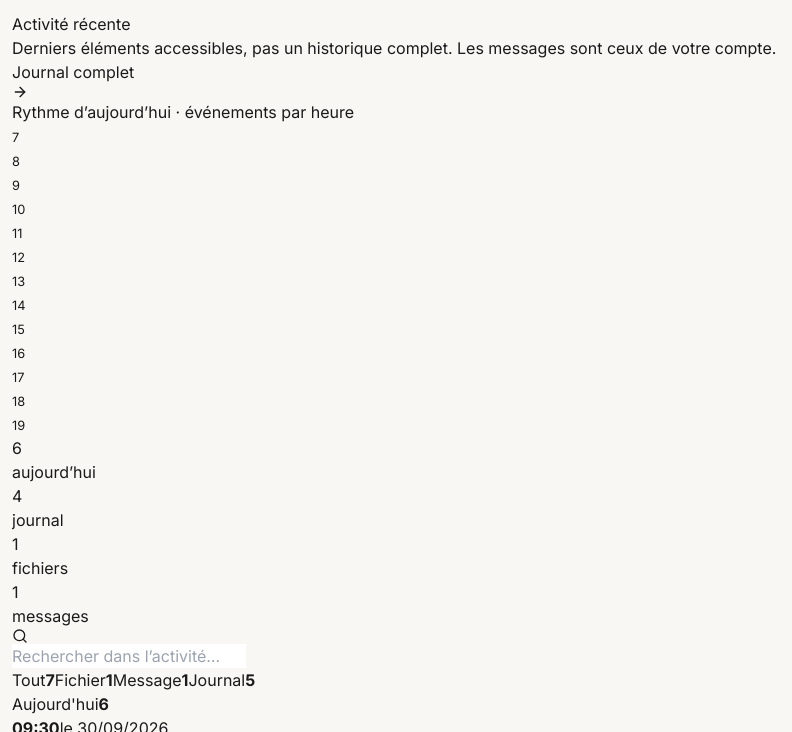
Scenario: onglet Activité du cabinet › les filtres affichent leur compteur et ne gardent que la source choisie ; la recherche porte sur l'acteur et le libellé
Expected: the button with aria-label "Journal 5" is shown, [188,668,255,692]
Step 1. Click the button with aria-label "Fichier 1" → (84, 680), box [55,668,113,692]
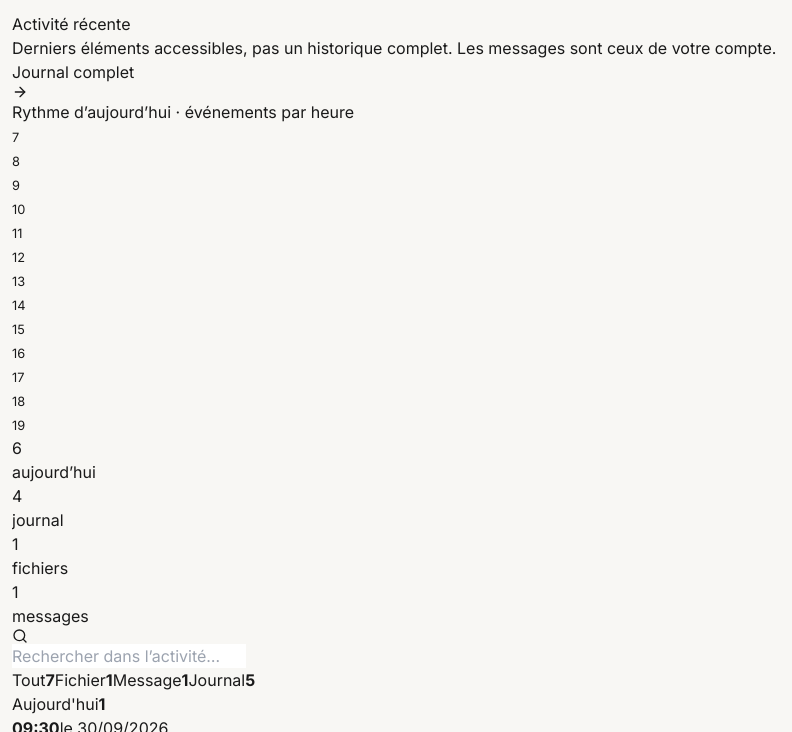
Step 2. Click the button with aria-label "Tout 7" → (33, 680), box [12,668,55,692]
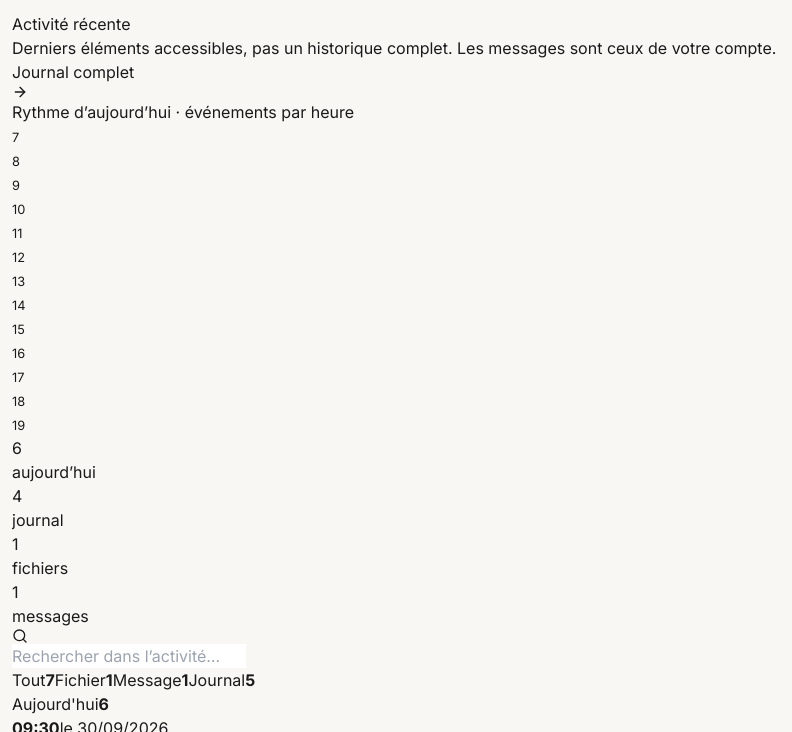
Step 3. Type "karim" into the search field labelled "Rechercher dans l’activité" → (129, 656), box [12,644,246,668]
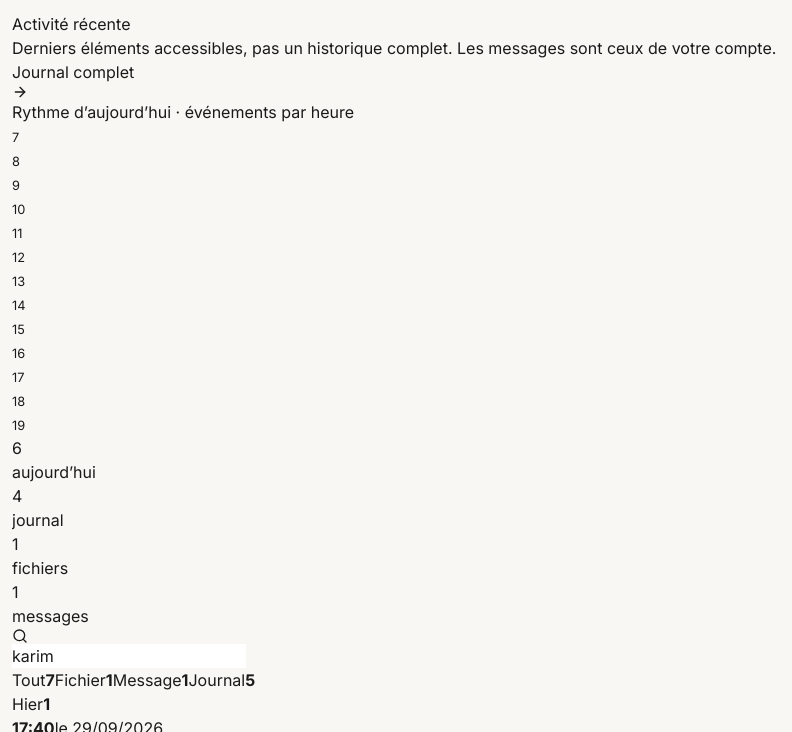
Step 4. Replace the text in the search field with "zzzz" → (129, 656), box [12,644,246,668]
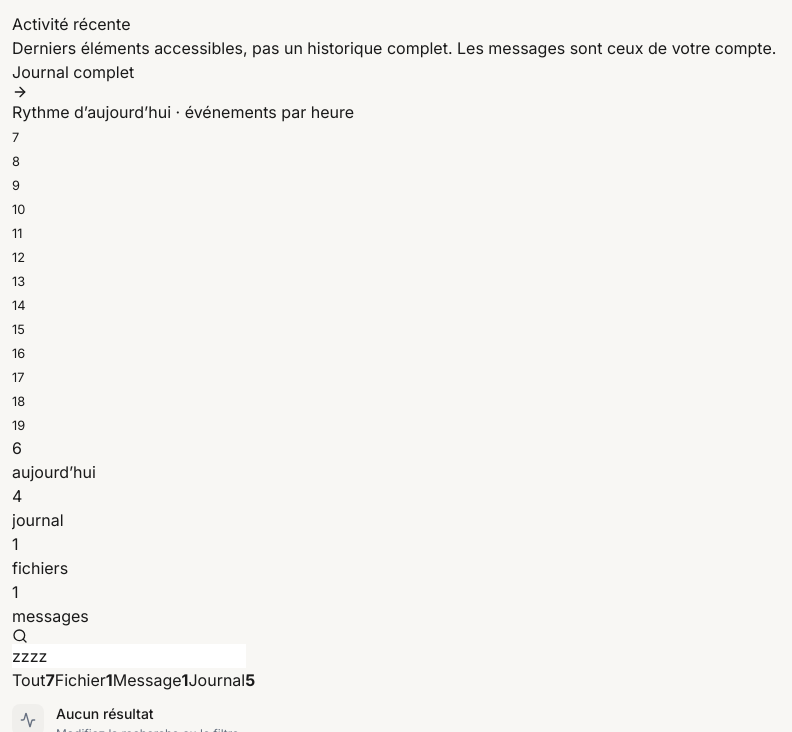
Expected: the text "Aucun résultat" is shown, [56,705,154,722]
